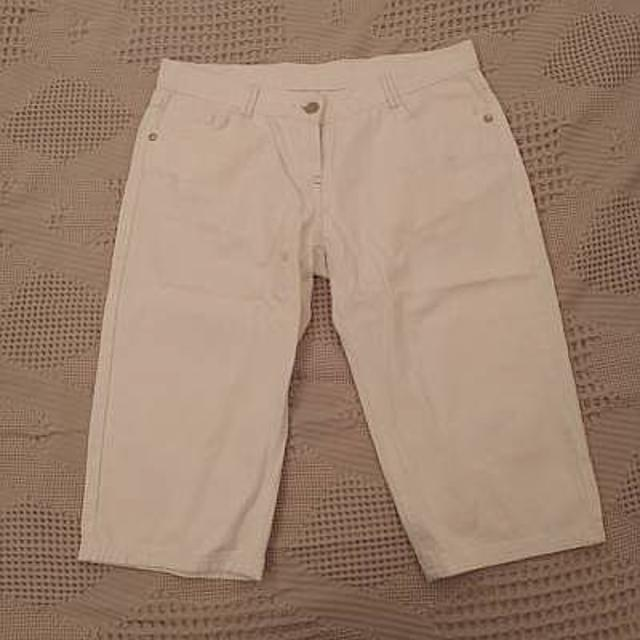TROUSER: (69, 34, 623, 586)
